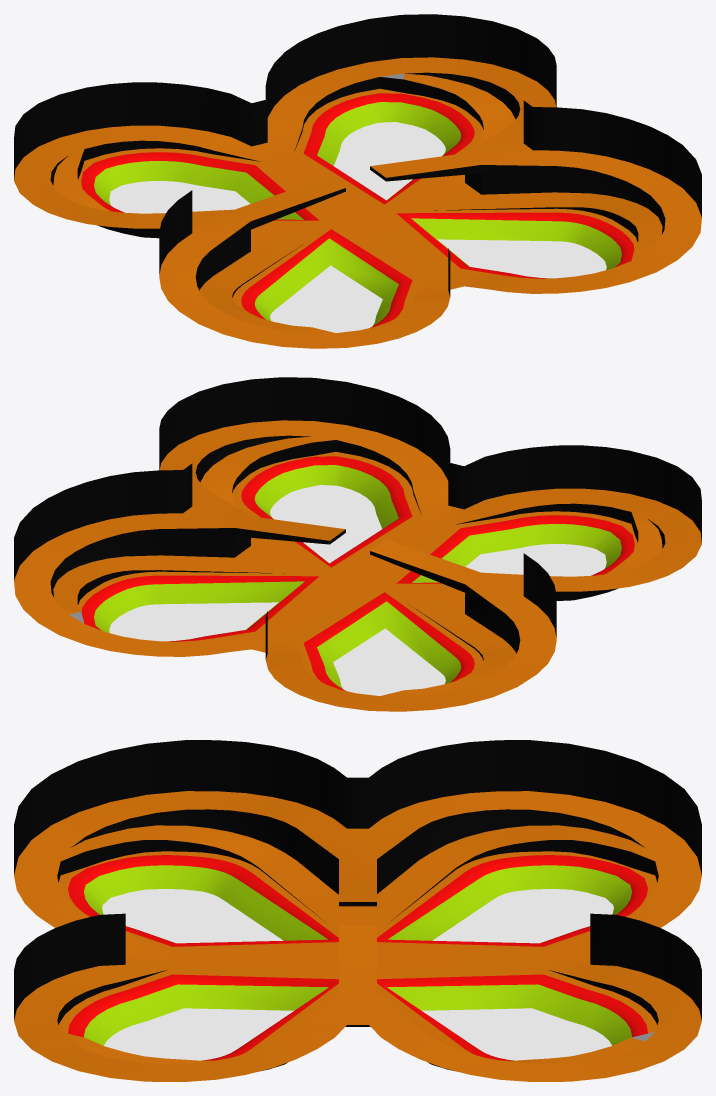
Rendered from MESH_New_Map.FBX.
3 views of the same model, one above another, from view 1: azimuth 30°, elevation 25°; view 2: azimuth 150°, elevation 25°; view 3: azimuth 270°, elevation 25° (orthographic). The views are drawn at different scales.
Parts seen in each view (by area): view 1: new Map; view 2: new Map; view 3: new Map.
Boxes of the visible parts, bbox=[...] form: new Map: bbox=[14, 14, 701, 348]; new Map: bbox=[14, 377, 701, 711]; new Map: bbox=[14, 740, 701, 1081].
Bounding box in the file's own units: 11364 × 1901 × 11361.
